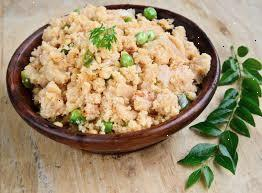upma: (32, 4, 201, 129)
